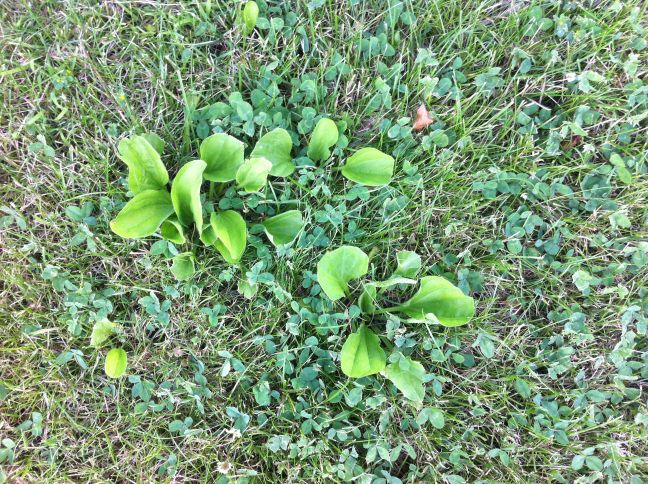weed1: (110, 129, 270, 282), (316, 242, 482, 384), (246, 115, 401, 195), (88, 317, 138, 380)
